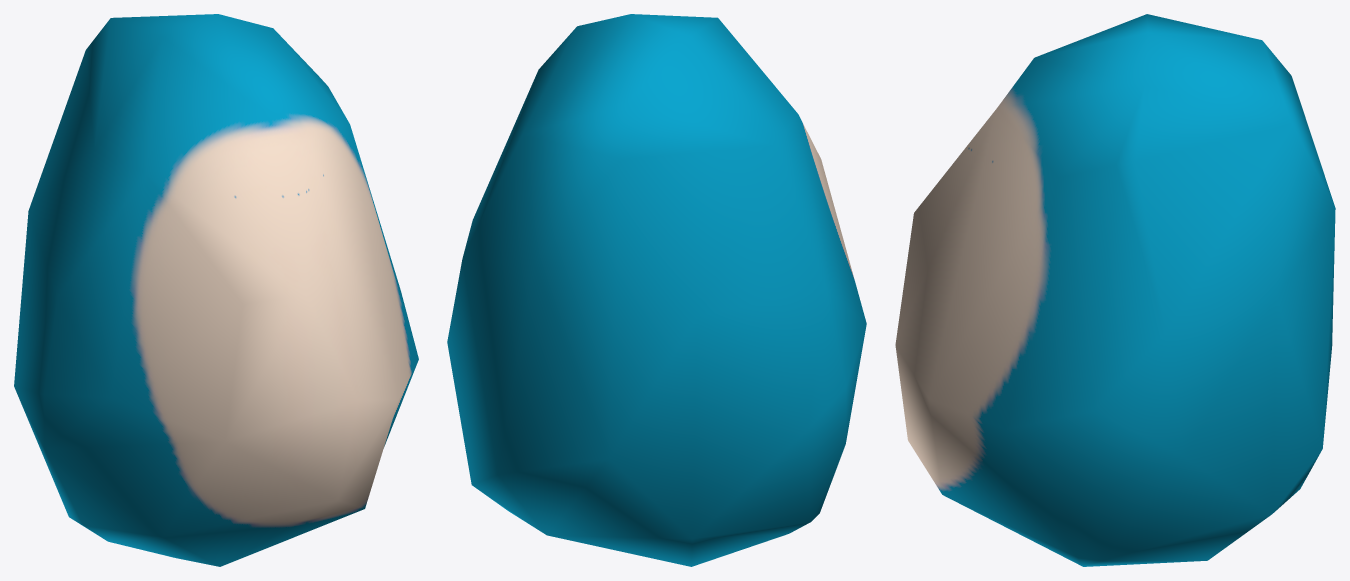
File: BlueSuke_body.obj
The picture shows the model from 3 angles, left to right: view 1: azimuth 30°, elevation 25°; view 2: azimuth 150°, elevation 25°; view 3: azimuth 270°, elevation 25°; orthographic projection. The views are drawn at different scales.
Parts seen in each view (by area): view 1: BlueSuke_body BlueSuke:Mesh; view 2: BlueSuke_body BlueSuke:Mesh; view 3: BlueSuke_body BlueSuke:Mesh.
Part boxes in pixels (box(x1,y1,x2,y2)): BlueSuke_body BlueSuke:Mesh: box(14, 14, 418, 566); BlueSuke_body BlueSuke:Mesh: box(447, 14, 866, 566); BlueSuke_body BlueSuke:Mesh: box(895, 14, 1335, 566).
Bounding box in the file's own units: 1.2 × 1.68 × 1.29.
1 material, 1 textured.
